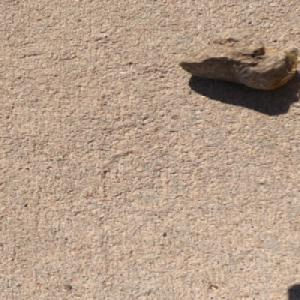Rock: (176, 29, 299, 91)
